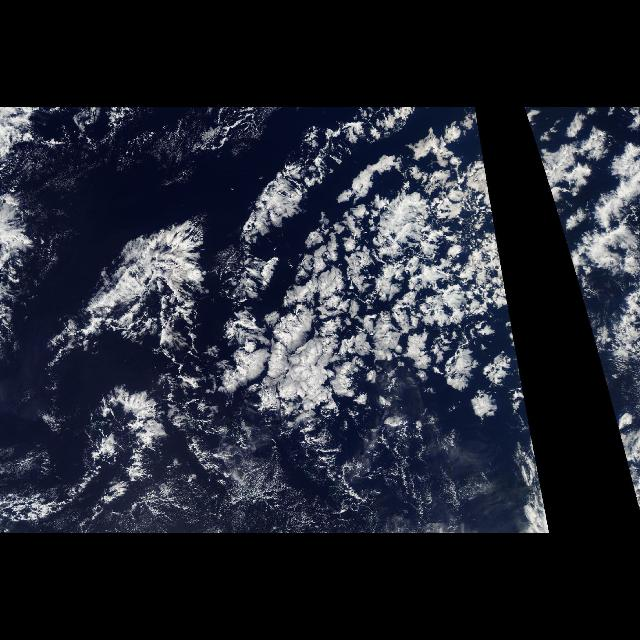Fish: (3, 212, 215, 528)
Flower: (233, 148, 485, 426)
Sugar: (223, 412, 503, 534)
